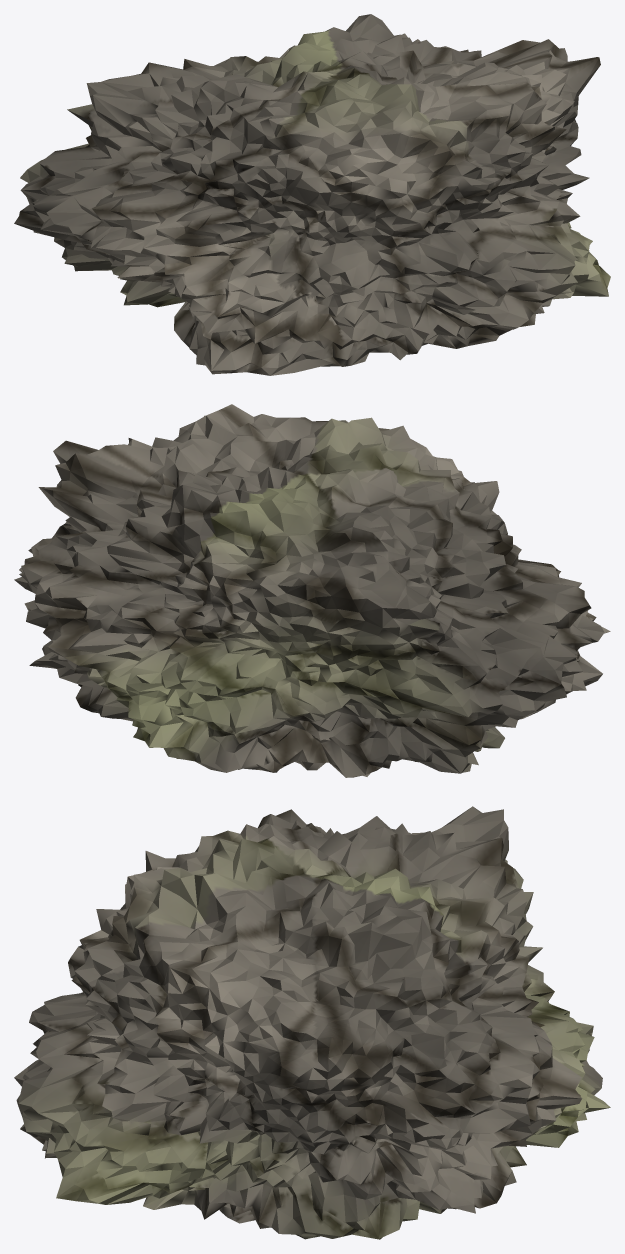
The model's file is rock_test.glb.
3 views of the same model, one above another, from view 1: azimuth 30°, elevation 25°; view 2: azimuth 150°, elevation 25°; view 3: azimuth 270°, elevation 25° (orthographic). The views are drawn at different scales.
Parts seen in each view (by area): view 1: rock_test_LOD0; view 2: rock_test_LOD0; view 3: rock_test_LOD0.
Part boxes in pixels (x1,y1,x2,y2): rock_test_LOD0: [14, 14, 610, 375]; rock_test_LOD0: [14, 404, 610, 777]; rock_test_LOD0: [14, 806, 610, 1239].
Size of what is drawn, in the model's own units: 4.05 by 1.6 by 3.25.
Materials: 1 (1 with a texture image).
